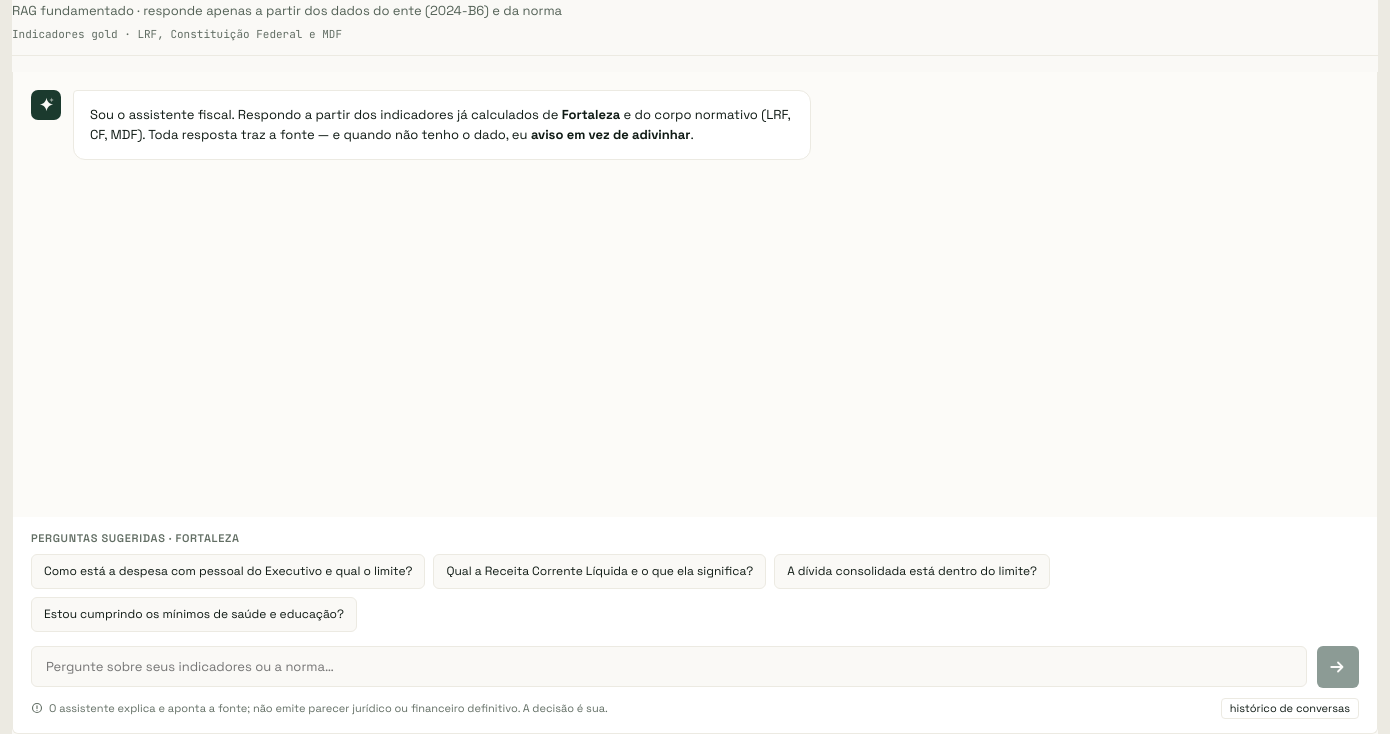
Test: Assistente — contexto da tela e histórico (Sprint 25E) › abre o histórico de conversas sob demanda, marcando as recusas
Expected: the field with placeholder "Pergunte sobre seus indicadores ou a norma…" is shown, x1=31 y1=646 x2=1307 y2=687
Click the button "histórico de conversas". click: (1290, 708)
box: x1=1221 y1=698 x2=1359 y2=719
(page scrolled)
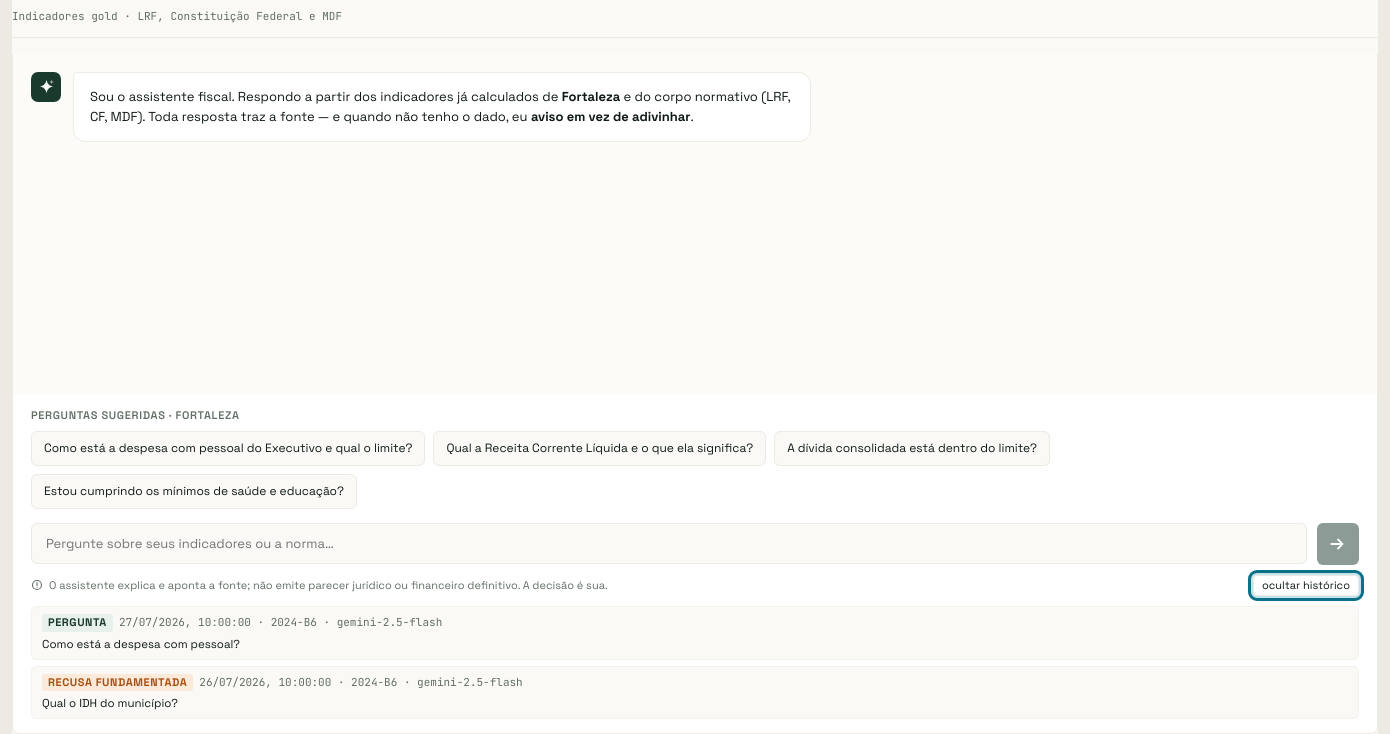
Result: the element with test id "historico-conversas" shows "Como está a despesa com pessoal?" at x1=42 y1=637 x2=240 y2=651
Result: the element with test id "historico-conversas" shows "RECUSA FUNDAMENTADA" at x1=48 y1=675 x2=187 y2=689
